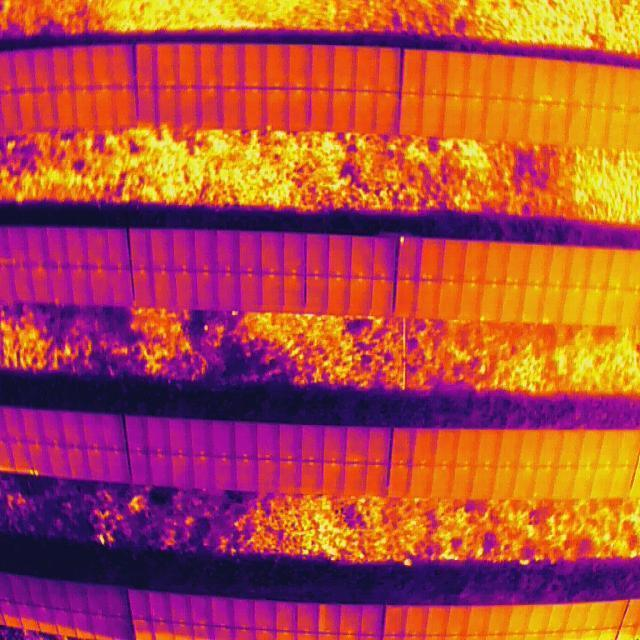hotspot: (400, 236, 406, 245)
